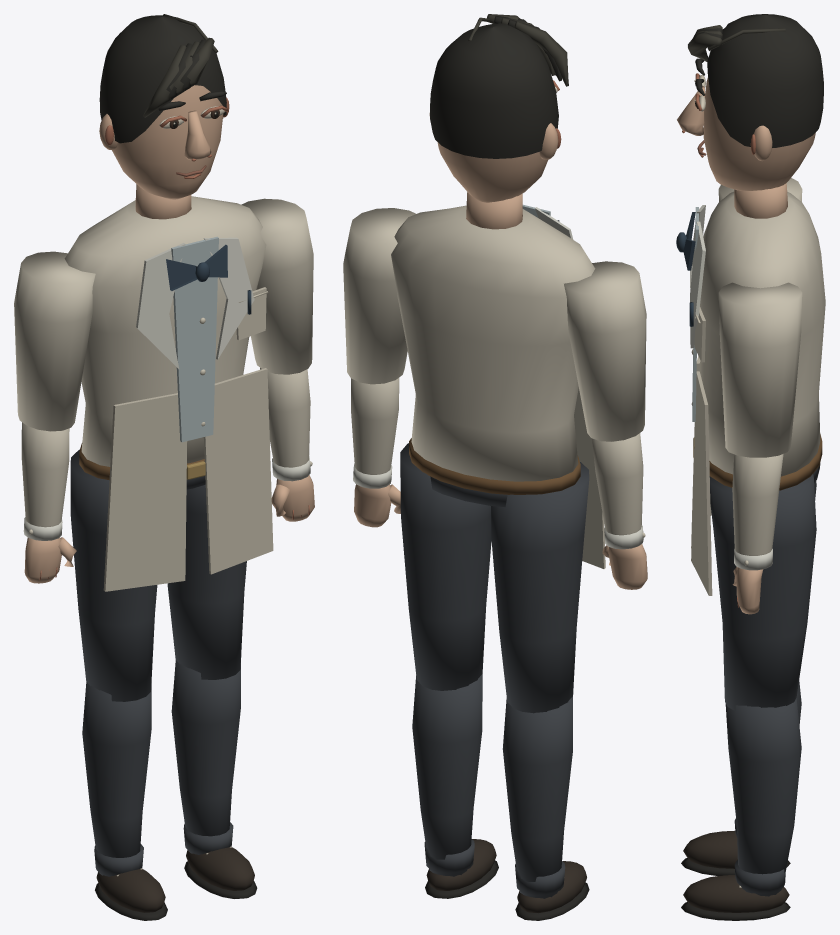
The model's file is chen.glb.
3 views of the same model, side by side, from view 1: azimuth 30°, elevation 25°; view 2: azimuth 150°, elevation 25°; view 3: azimuth 270°, elevation 25° (orthographic).
Visible parts, largest first — view 1: body.001_mesh, head.001_mesh, shinL.001_mesh, shinR.001_mesh, legL.001_mesh, armL.001_mesh, legR.001_mesh, armR.001_mesh, forearmL.001_mesh, forearmR.001_mesh; view 2: body.001_mesh, head.001_mesh, legL.001_mesh, legR.001_mesh, shinR.001_mesh, shinL.001_mesh, armL.001_mesh, armR.001_mesh, forearmL.001_mesh, forearmR.001_mesh; view 3: body.001_mesh, head.001_mesh, legR.001_mesh, shinR.001_mesh, armR.001_mesh, forearmR.001_mesh, shinL.001_mesh, armL.001_mesh.
Boxes of the visible parts, x1,y1,x2,y2 form: body.001_mesh: (64, 184, 273, 591); head.001_mesh: (99, 14, 229, 199); shinL.001_mesh: (82, 682, 167, 920); shinR.001_mesh: (171, 656, 257, 898); legL.001_mesh: (70, 449, 157, 701); armL.001_mesh: (14, 251, 95, 431); legR.001_mesh: (167, 484, 246, 679); armR.001_mesh: (241, 198, 313, 374); forearmL.001_mesh: (21, 422, 76, 583); forearmR.001_mesh: (260, 368, 314, 521); body.001_mesh: (391, 192, 605, 568); head.001_mesh: (429, 14, 568, 202); legL.001_mesh: (491, 462, 589, 713); legR.001_mesh: (400, 443, 491, 690); shinR.001_mesh: (412, 674, 498, 898); shinL.001_mesh: (502, 696, 589, 920); armL.001_mesh: (564, 261, 646, 441); armR.001_mesh: (343, 208, 415, 384); forearmL.001_mesh: (592, 433, 647, 589); forearmR.001_mesh: (351, 378, 400, 527); body.001_mesh: (676, 183, 825, 595); head.001_mesh: (677, 14, 823, 190); legR.001_mesh: (709, 474, 816, 711); shinR.001_mesh: (681, 698, 801, 920); armR.001_mesh: (718, 282, 802, 457); forearmR.001_mesh: (732, 454, 783, 614); shinL.001_mesh: (681, 680, 801, 875); armL.001_mesh: (718, 178, 802, 201).
Bounding box in the file's own units: 0.5884 × 1.69 × 0.261.
